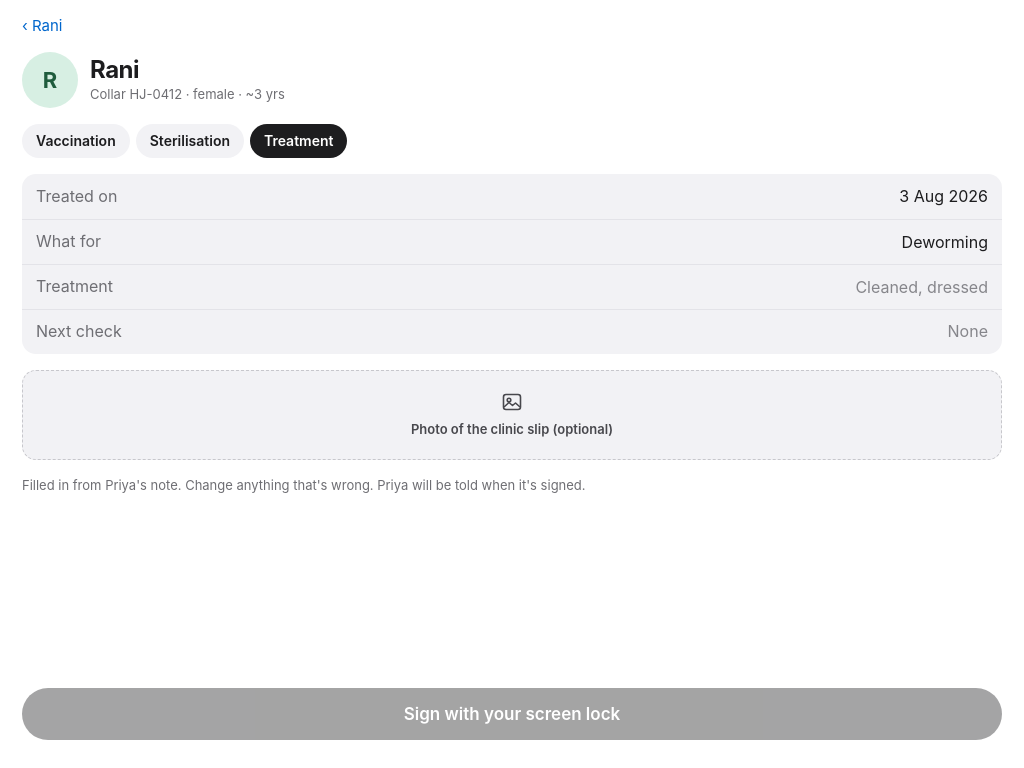
it: V3 sign a record › confirming a feeder note sends confirmsRecordId
Check: the text "Filled in from Priya's note" is shown, box [22,477,586,493]
Type "Albendazole" into the field labelled "Treatment" at x=556, y=287, box [125,265,988,309]
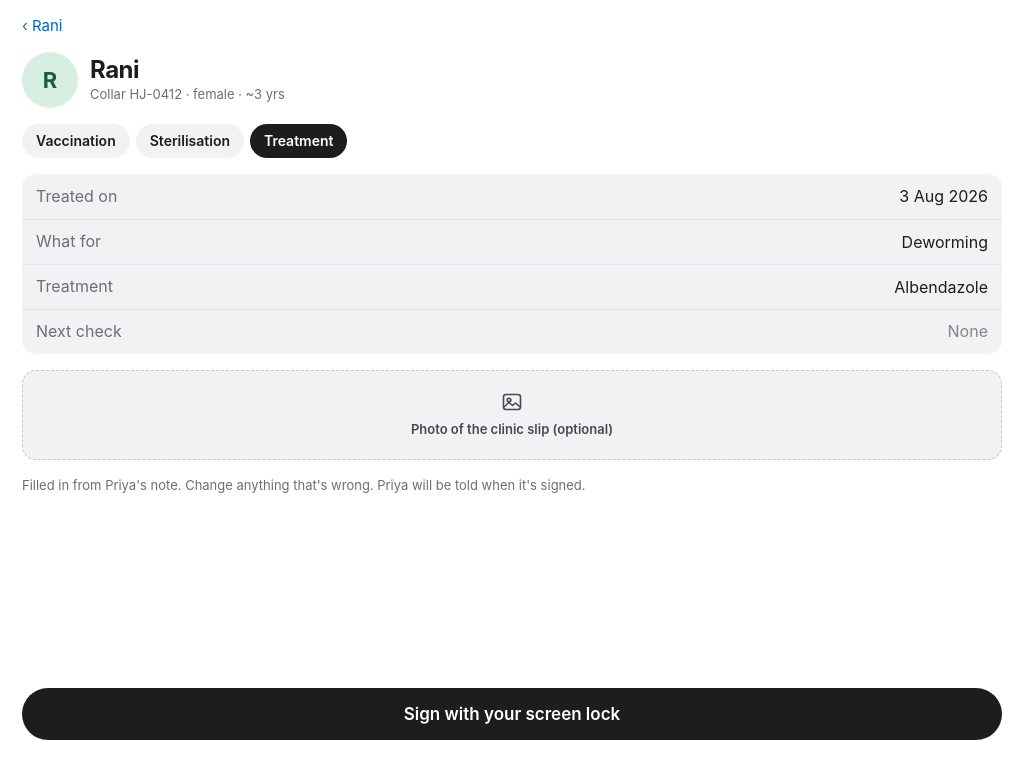
Click the button "Sign with your screen lock" at x=512, y=714, box [22,688,1002,740]
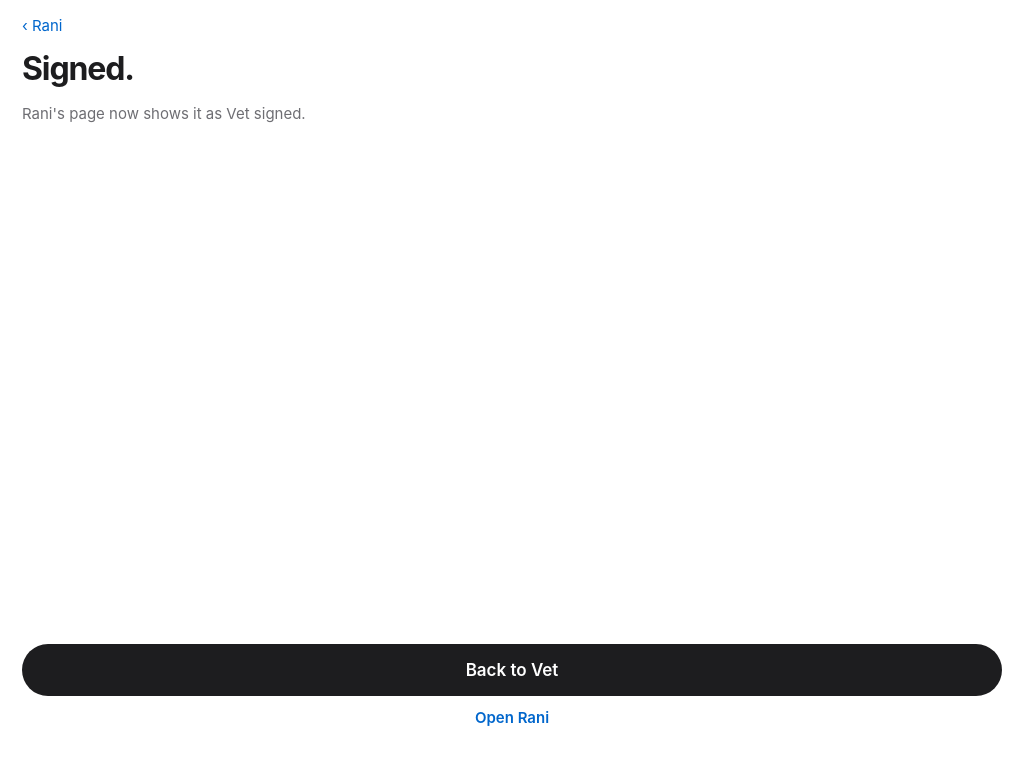
Check: the heading "Signed." is shown, box [22,49,134,88]
